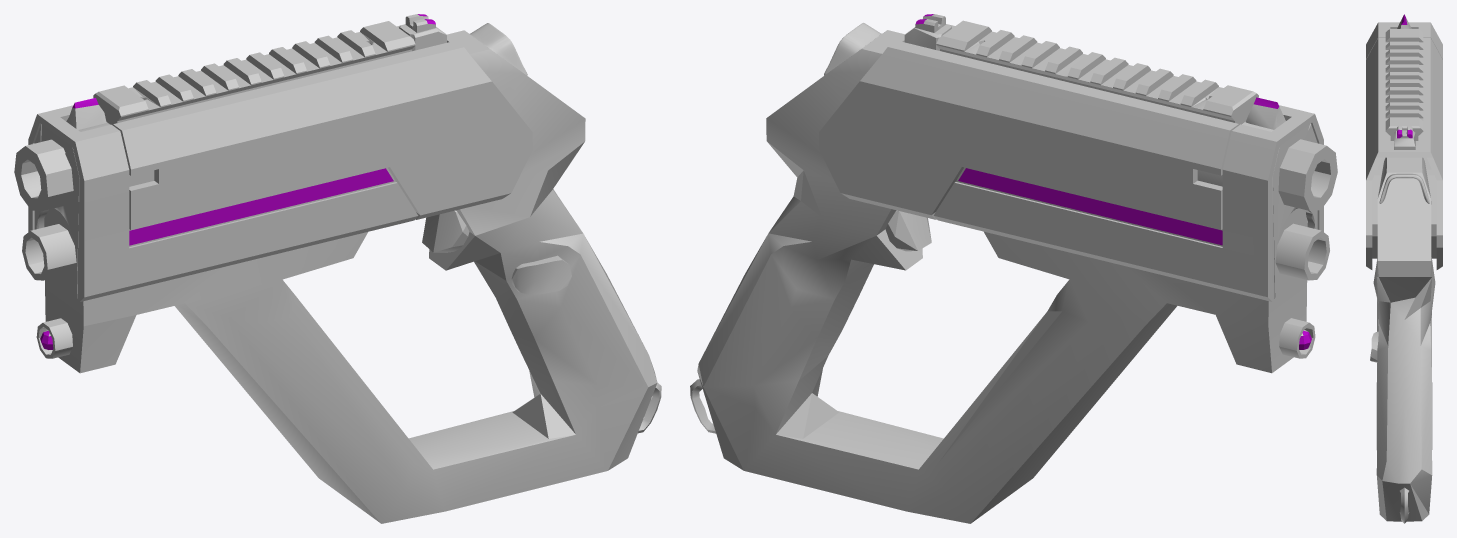
Rendered from Gun_Universal_Version_LowPoly.fbx.
3 views of the same model, side by side, from view 1: azimuth 30°, elevation 25°; view 2: azimuth 150°, elevation 25°; view 3: azimuth 270°, elevation 25° (orthographic). The views are drawn at different scales.
Visible parts, largest first — view 1: Gun_Universal_Version_lowPoly; view 2: Gun_Universal_Version_lowPoly; view 3: Gun_Universal_Version_lowPoly.
Boxes of the visible parts, bbox=[...] form: Gun_Universal_Version_lowPoly: bbox=[14, 14, 661, 523]; Gun_Universal_Version_lowPoly: bbox=[690, 14, 1337, 523]; Gun_Universal_Version_lowPoly: bbox=[1366, 14, 1442, 523].
Size of the model in its own units: 27.89 by 20.38 by 4.3.
